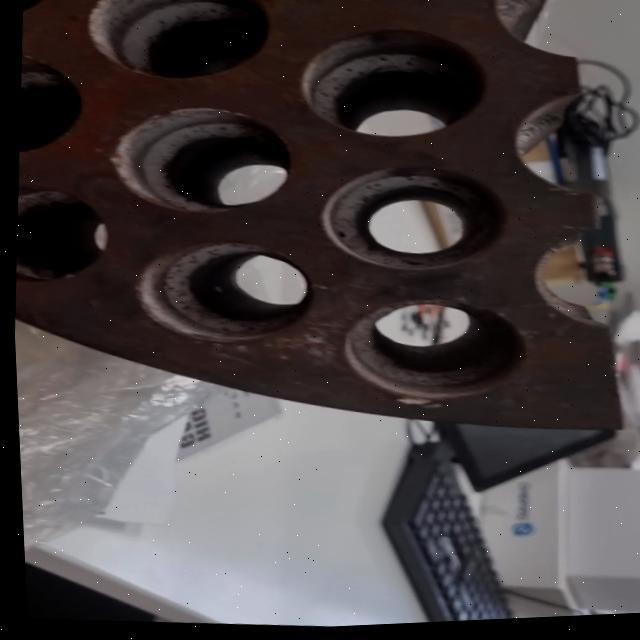Hole: (292, 22, 492, 152), (314, 159, 509, 285), (333, 293, 529, 417), (104, 99, 295, 222), (126, 235, 315, 353), (81, 0, 273, 89), (8, 182, 110, 287), (13, 46, 89, 162)
